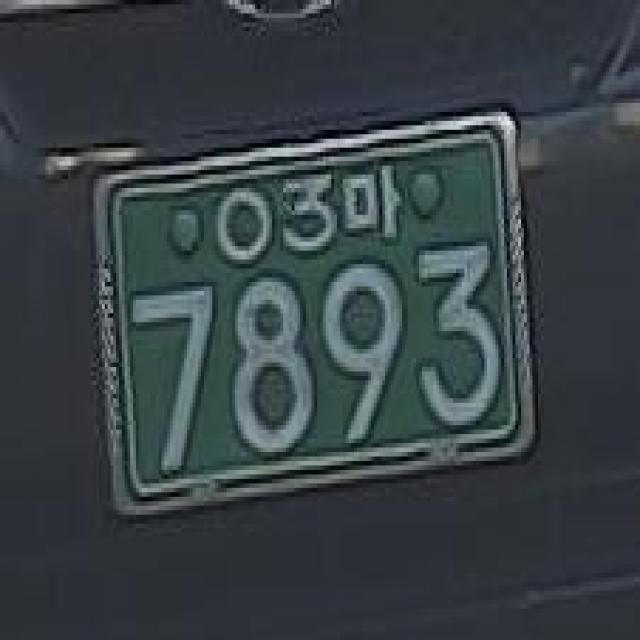illegal_plate: (82, 110, 546, 525)
